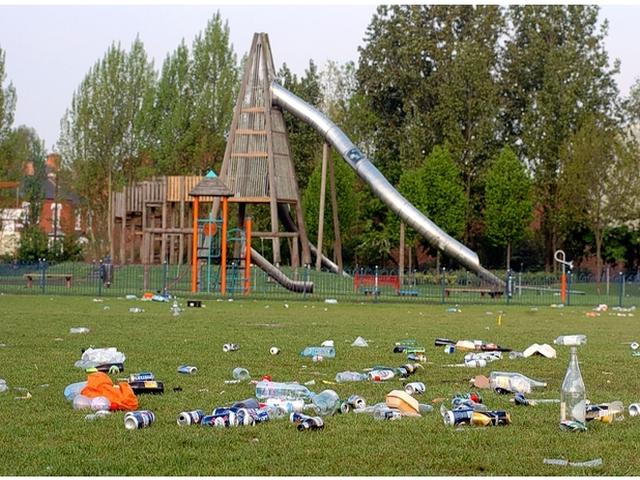garbage: (208, 391, 370, 422), (78, 347, 130, 409)
